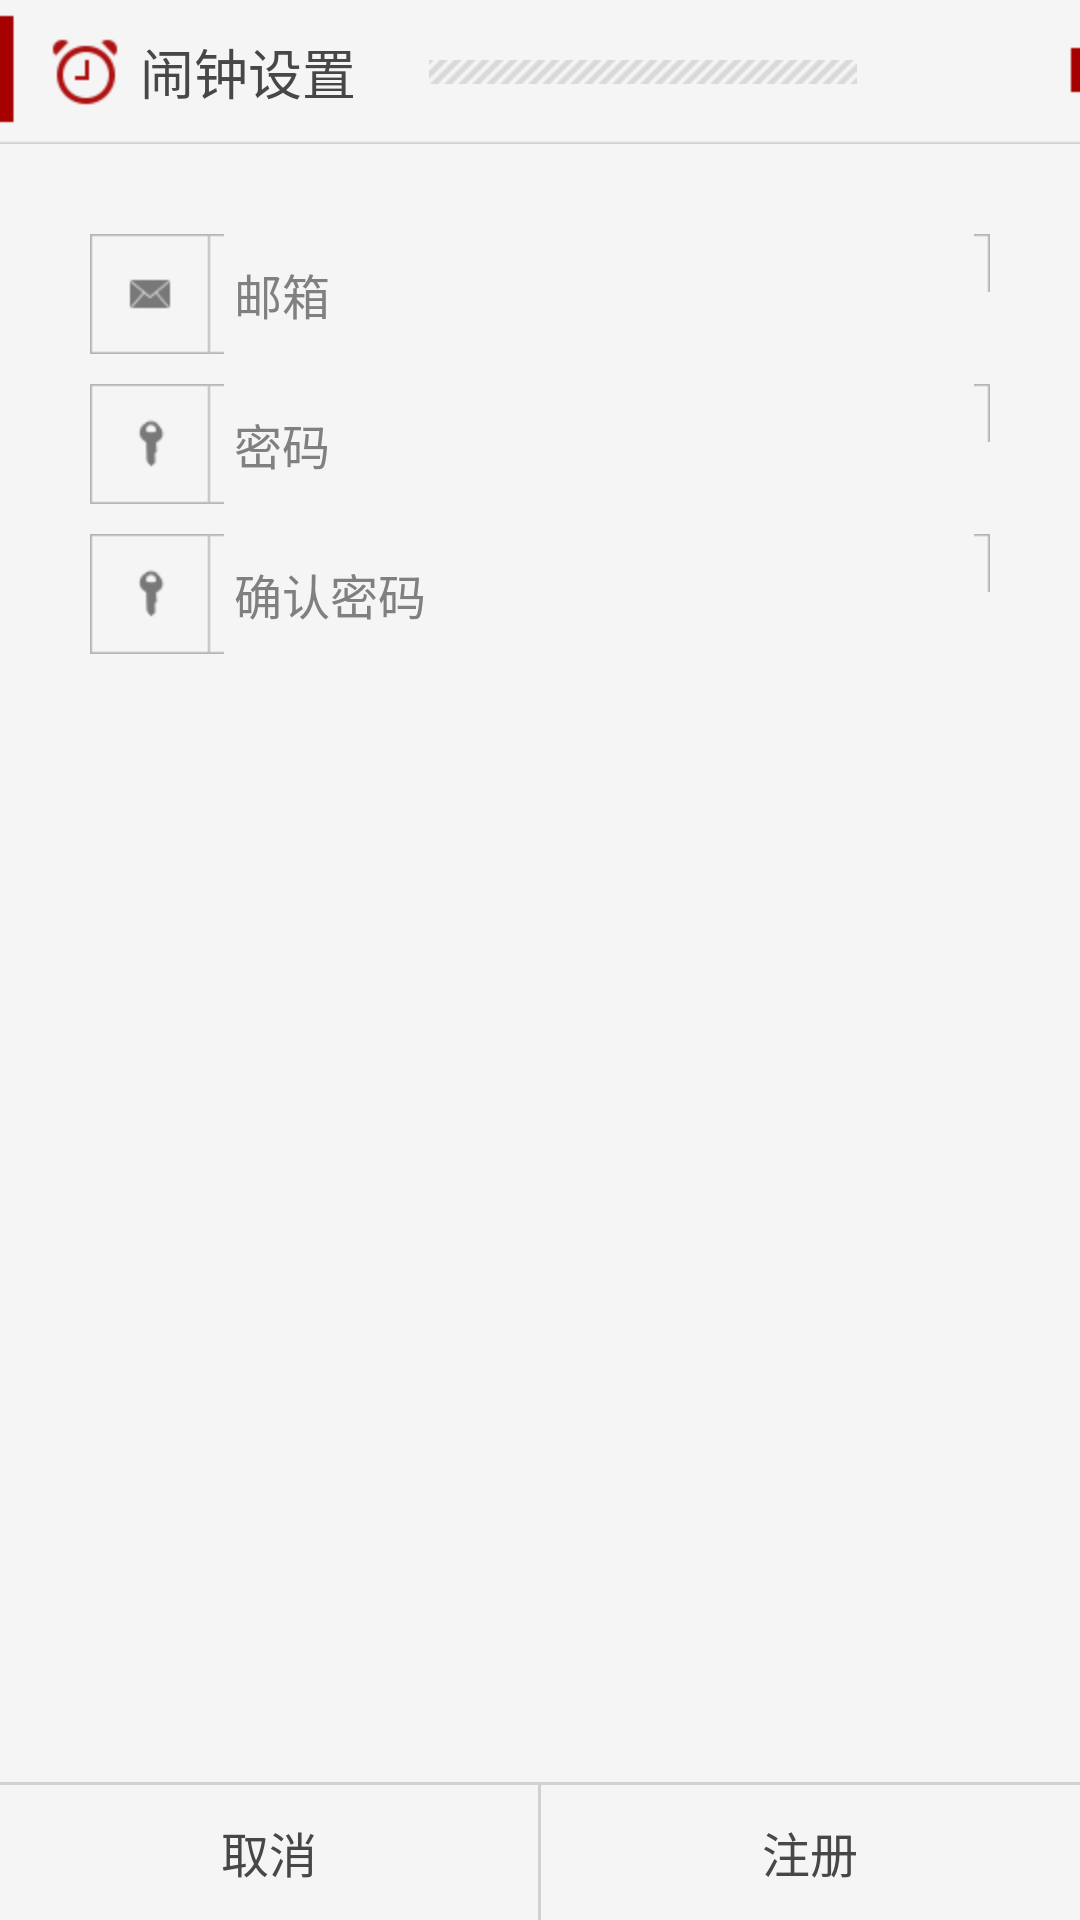

Locate icon controls on the screen. Image size 1080px x 1920px, boxes as bbox=[x1, y1, x2, y2].
login email: bbox=[129, 279, 171, 309]
login key: bbox=[139, 420, 164, 467], bbox=[139, 570, 164, 617]
